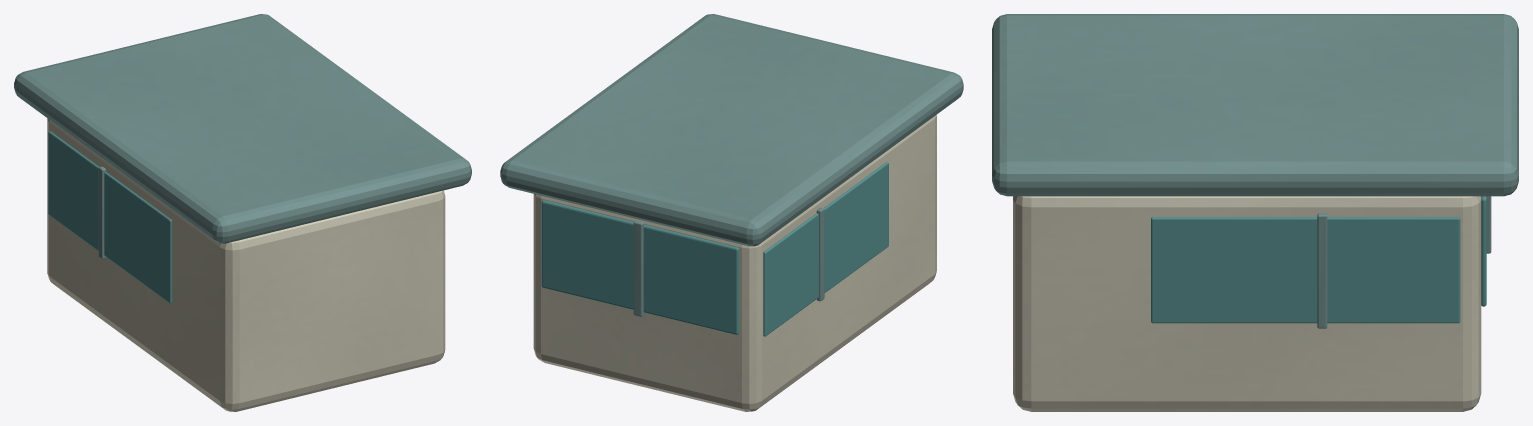
The model's file is Boat_Wheelhouse.glb.
The picture shows the model from 3 angles, left to right: view 1: azimuth 30°, elevation 25°; view 2: azimuth 150°, elevation 25°; view 3: azimuth 270°, elevation 25°; orthographic projection. The views are drawn at different scales.
Visible parts, largest first — view 1: Boat_Wheelhouse; view 2: Boat_Wheelhouse; view 3: Boat_Wheelhouse.
Boxes of the visible parts, box(x1,y1,x2,y2) form: Boat_Wheelhouse: box(14, 14, 471, 411); Boat_Wheelhouse: box(500, 14, 963, 411); Boat_Wheelhouse: box(992, 14, 1518, 411).
Size of the model in its own units: 2.25 by 1.72 by 3.15.
3 materials, 2 textured.
